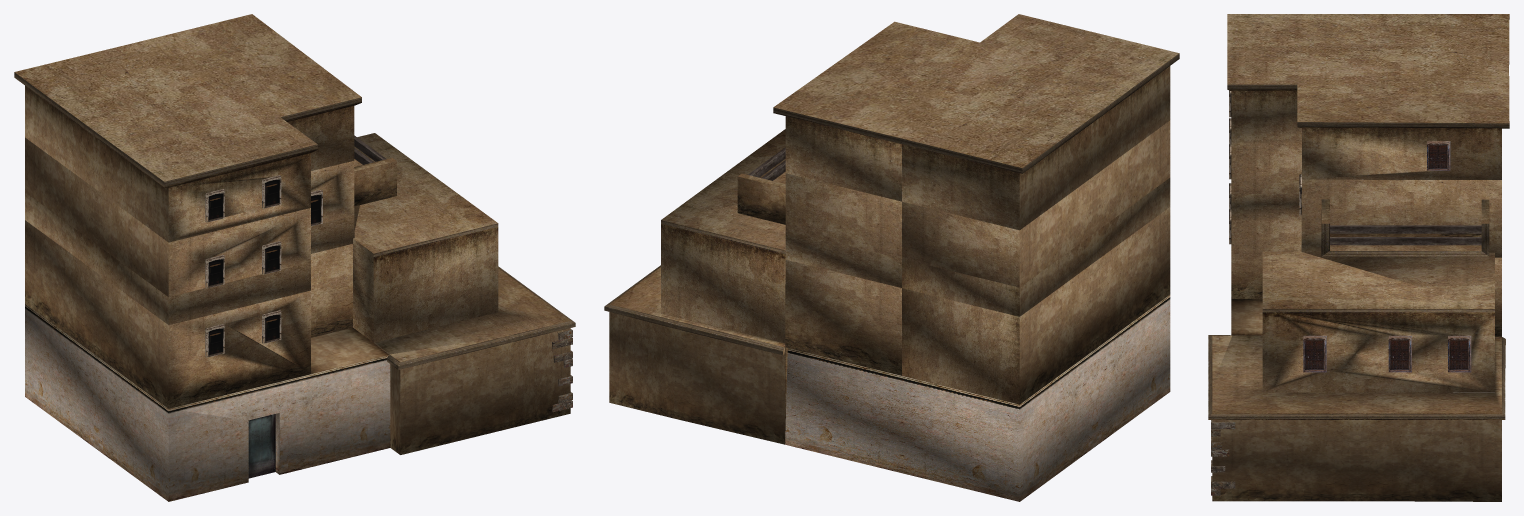
File: BuildingH_Seperated.fbx
3 renders of one model, left to right at view 1: azimuth 30°, elevation 25°; view 2: azimuth 150°, elevation 25°; view 3: azimuth 270°, elevation 25°, orthographic. The views are drawn at different scales.
Visible parts, largest first — view 1: BuildingH1_Roof2, BuildingH1_Wall1, BuildingH1_Wall2, BuildingH1_Wall3, BuildingH1_Wall4, BuildingH2_Wall1, BuildingH2_Wall2, BuildingH2_Roof2, BuildingH2_Roof1, BuildingH1_Roof1, BuildingH1_Balcony, BuildingH1_Door; view 2: BuildingH1_Wall1, BuildingH1_Roof2, BuildingH1_Wall2, BuildingH1_Wall3, BuildingH1_Wall4, BuildingH2_Wall1, BuildingH2_Wall2, BuildingH2_Roof2, BuildingH2_Roof1, BuildingH1_Balcony; view 3: BuildingH1_Roof2, BuildingH2_Wall1, BuildingH2_Wall2, BuildingH1_Wall3, BuildingH1_Wall4, BuildingH2_Roof2, BuildingH2_Roof1, BuildingH1_Wall2, BuildingH1_Balcony, BuildingH1_BalconyFloor, BuildingH1_Roof1, BuildingH2_Window1 (+3 smaller).
Boxes of the visible parts, x1,y1,x2,y2 form: BuildingH1_Roof2: (14,14,361,187); BuildingH1_Wall1: (25,304,390,501); BuildingH1_Wall2: (25,220,352,408); BuildingH1_Wall3: (25,137,354,324); BuildingH1_Wall4: (25,86,354,242); BuildingH2_Wall1: (390,328,572,454); BuildingH2_Wall2: (353,223,498,342); BuildingH2_Roof2: (353,133,497,253); BuildingH2_Roof1: (374,266,575,369); BuildingH1_Roof1: (311,328,389,373); BuildingH1_Balcony: (354,135,396,206); BuildingH1_Door: (248,413,279,478); BuildingH1_Wall1: (785,295,1170,501); BuildingH1_Roof2: (773,14,1179,173); BuildingH1_Wall2: (785,207,1170,404); BuildingH1_Wall3: (785,120,1170,316); BuildingH1_Wall4: (785,66,1170,230); BuildingH2_Wall1: (609,312,787,444); BuildingH2_Wall2: (661,220,785,343); BuildingH2_Roof2: (661,129,785,250); BuildingH2_Roof1: (604,265,785,355); BuildingH1_Balcony: (737,147,785,224); BuildingH1_Roof2: (1227,14,1509,128); BuildingH2_Wall1: (1211,420,1501,501); BuildingH2_Wall2: (1262,309,1494,392); BuildingH1_Wall3: (1231,142,1501,257); BuildingH1_Wall4: (1231,91,1501,179); BuildingH2_Roof2: (1262,251,1494,308); BuildingH2_Roof1: (1208,335,1505,419); BuildingH1_Wall2: (1231,220,1501,336); BuildingH1_Balcony: (1321,199,1489,256); BuildingH1_BalconyFloor: (1322,233,1488,256); BuildingH1_Roof1: (1231,299,1262,335); BuildingH2_Window1: (1303,335,1326,372).
Size of the model in its own units: 1789 by 1379 by 1234.
